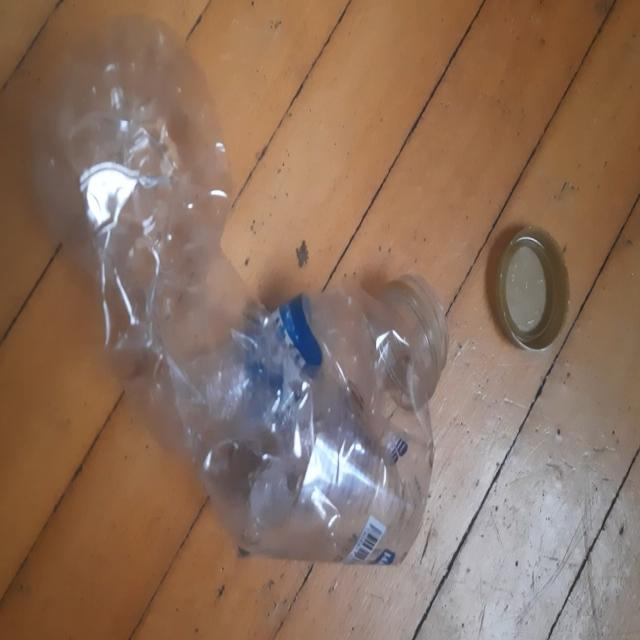Plastic: (20, 14, 449, 569), (486, 227, 570, 355)
